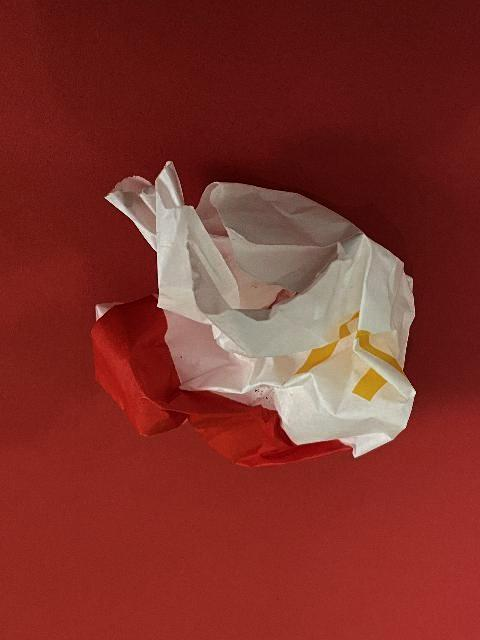paperbag: (88, 157, 418, 470)
